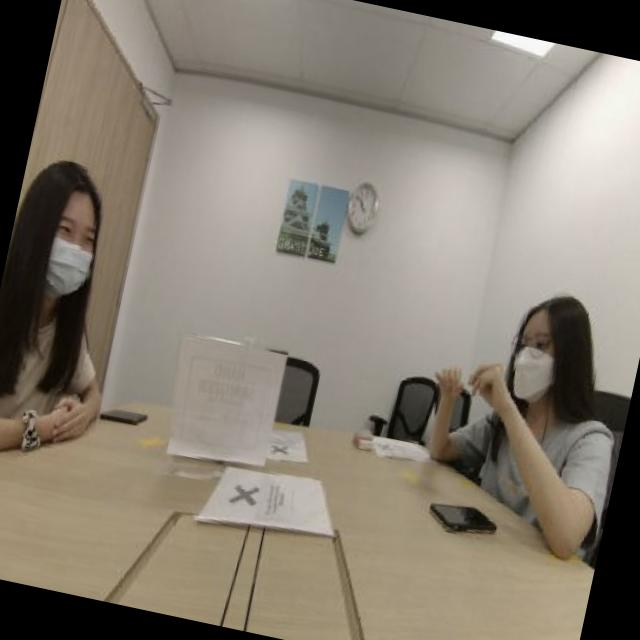Person: (431, 230, 628, 528), (0, 120, 157, 445)
